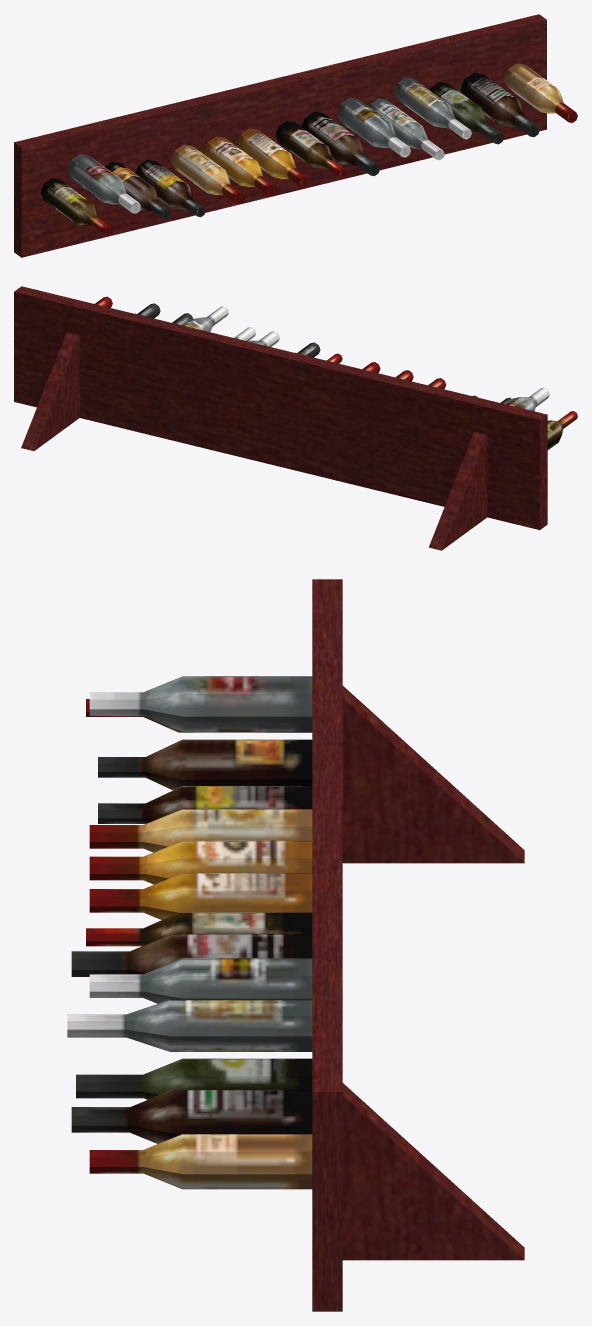
File: barshelves.fbx
The picture shows the model from 3 angles, top to bottom: view 1: azimuth 30°, elevation 25°; view 2: azimuth 150°, elevation 25°; view 3: azimuth 270°, elevation 25°; orthographic projection. The views are drawn at different scales.
Visible parts, largest first — view 1: mesh_0; view 2: mesh_0; view 3: mesh_0.
Part boxes in pixels (x1,y1,x2,y2): mesh_0: (14, 14, 577, 257); mesh_0: (14, 286, 577, 550); mesh_0: (67, 579, 524, 1311).
Size of the model in its own units: 200 by 40 by 75.43.
Materials: 1 (1 with a texture image).
